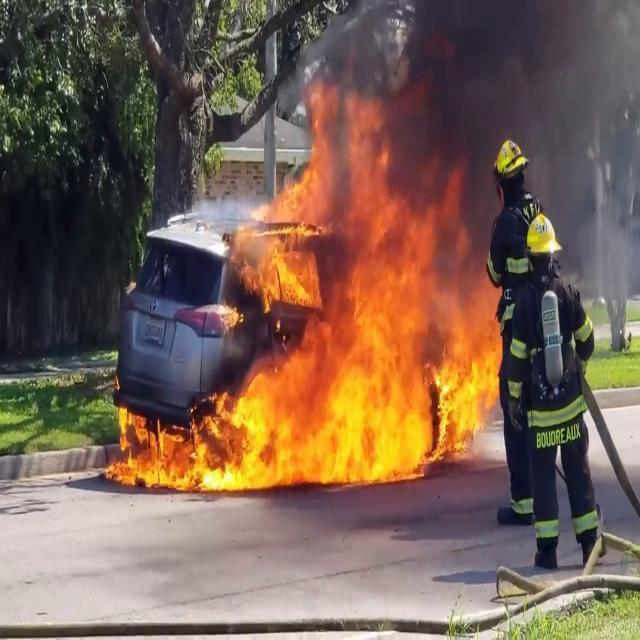Fire: (106, 79, 498, 515)
Smoke: (319, 0, 640, 255)
